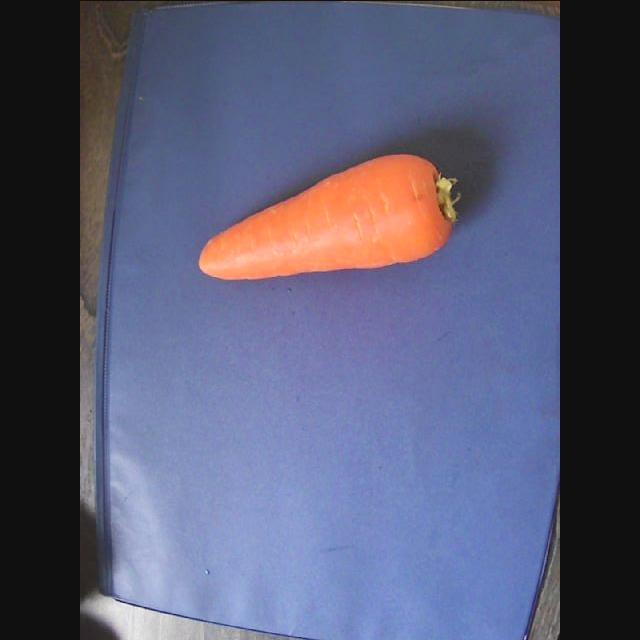zanahoria: (200, 154, 458, 278)
